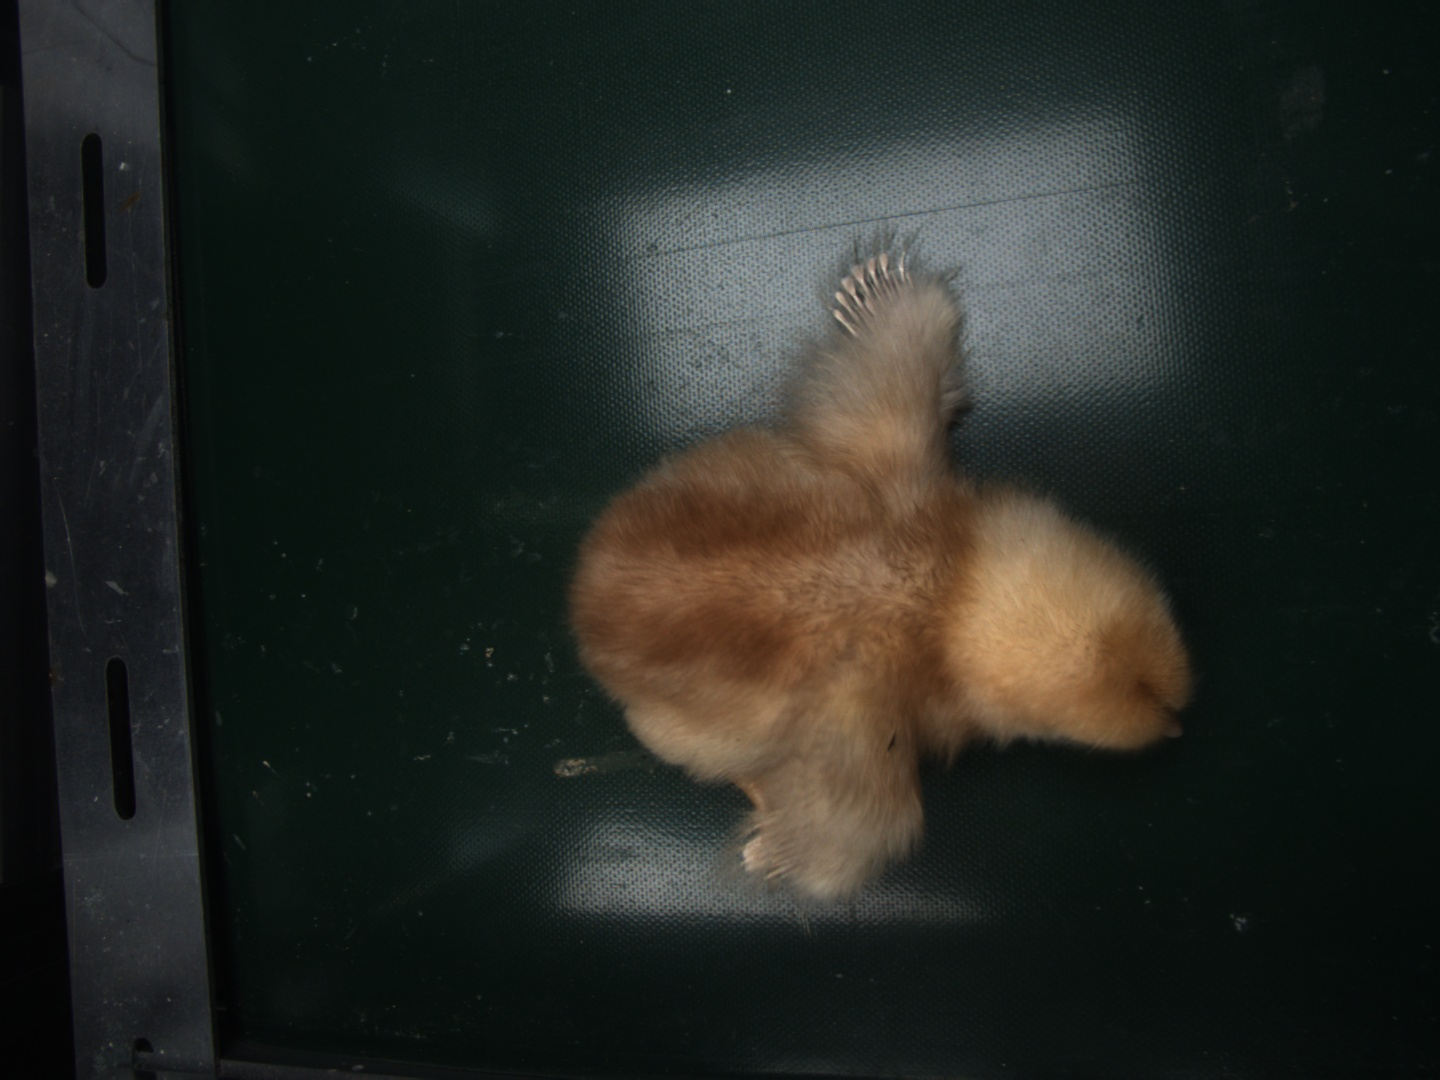female: (835, 253, 912, 341)
